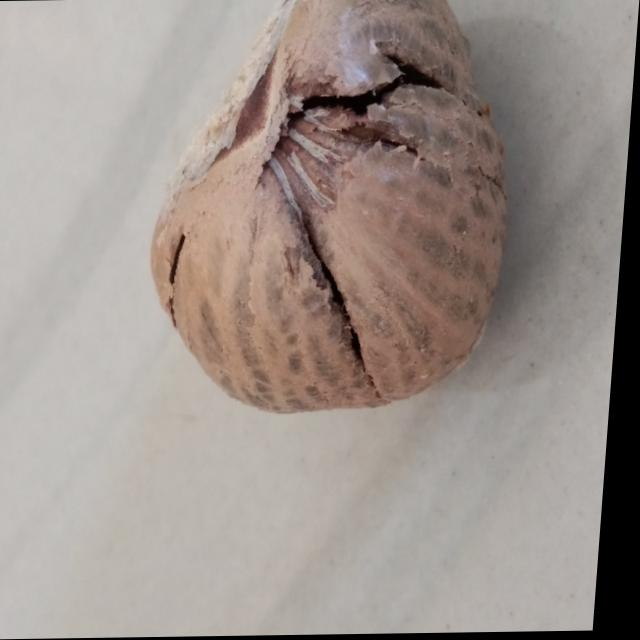phatora: (133, 0, 530, 433)
